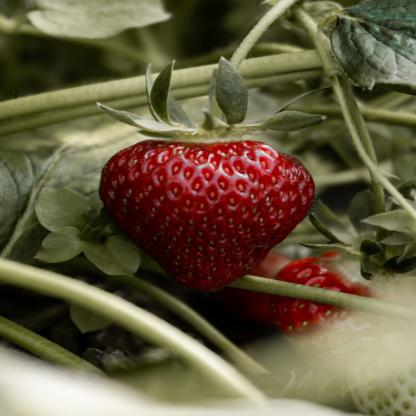strawberry: (78, 54, 366, 303)
